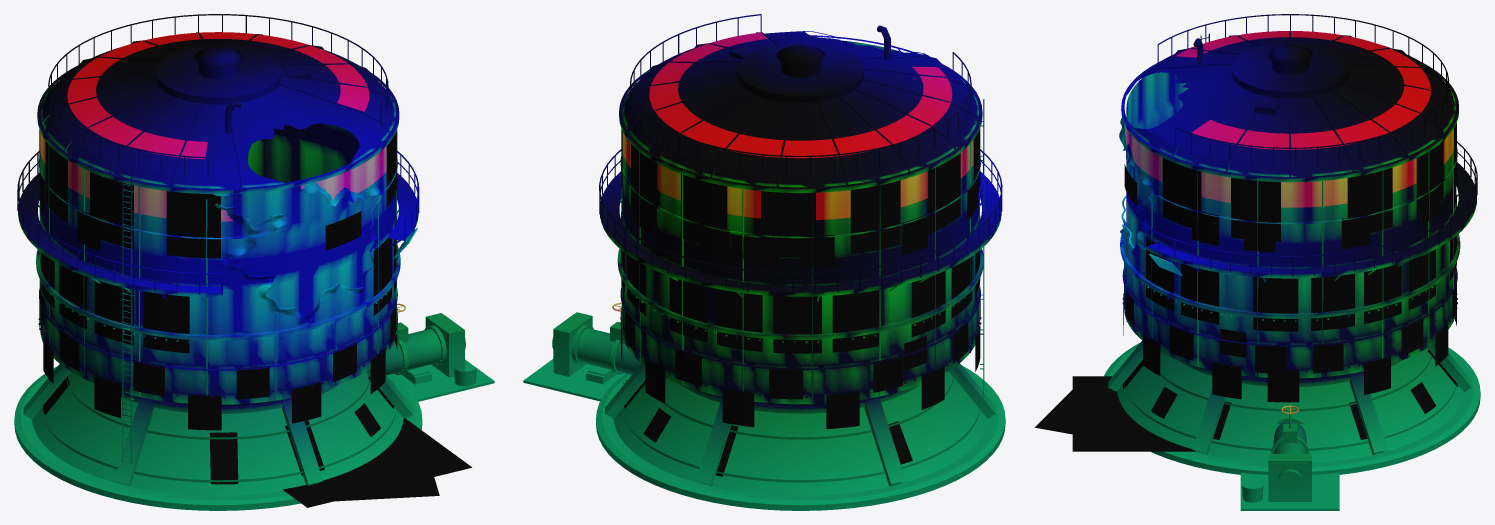
The model's file is largefueltank_damaged.glb.
3 renders of one model, left to right at view 1: azimuth 30°, elevation 25°; view 2: azimuth 150°, elevation 25°; view 3: azimuth 270°, elevation 25°, orthographic. The views are drawn at different scales.
Parts seen in each view (by area): view 1: lod0; view 2: lod0; view 3: lod0.
Boxes of the visible parts, x1,y1,x2,y2 form: lod0: (14,14,494,510); lod0: (523,14,1005,510); lod0: (1035,14,1480,510).
Size of what is drawn, in the model's own units: 23.22 by 19.5 by 22.55.
